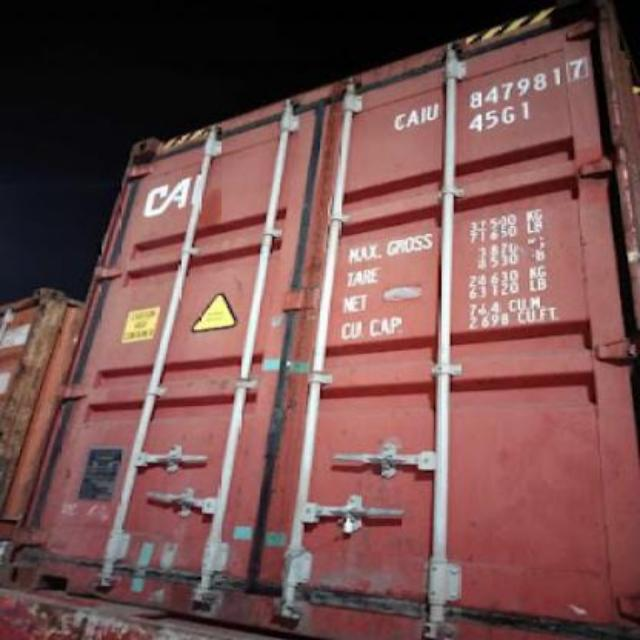1: (550, 64, 564, 86)
4: (482, 84, 498, 106)
7: (566, 50, 584, 86), (496, 80, 512, 102)
8: (528, 69, 548, 99), (468, 88, 482, 110)
9: (514, 77, 530, 97)
A: (404, 108, 420, 128)
C: (391, 111, 404, 132)
I: (416, 102, 428, 130)
U: (424, 101, 436, 125)
